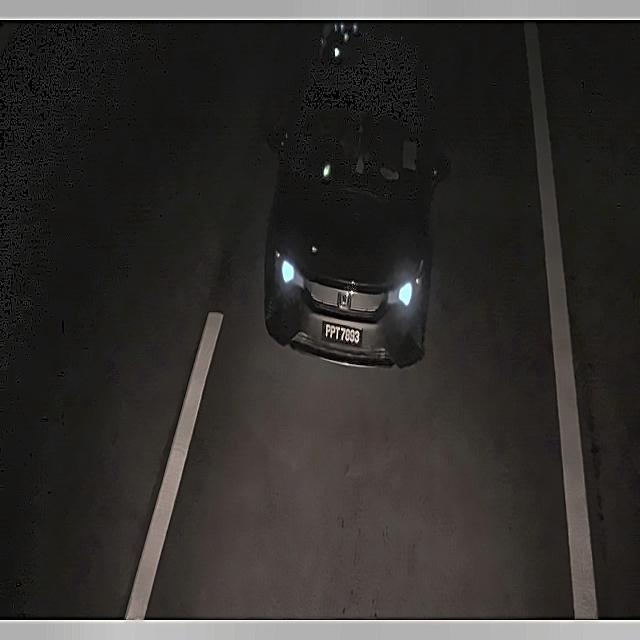car: (317, 313, 368, 353)
